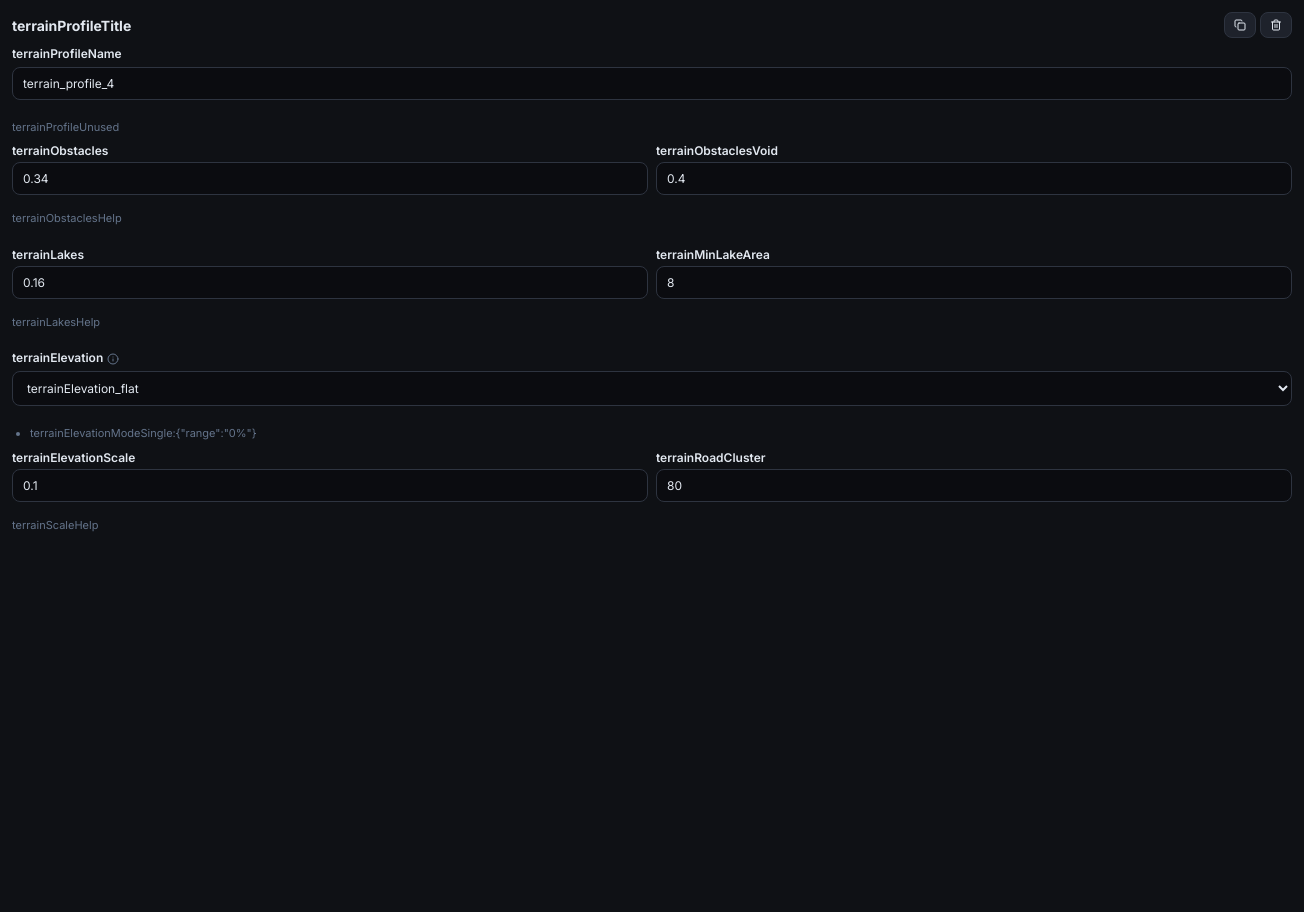
it: terrain elevation control › keeps the custom editor open when typed values land back on a preset
Select "terrainElevation_custom" in the dropdown labelled "terrainElevation" at (652, 389), box [12,371,1292,406]
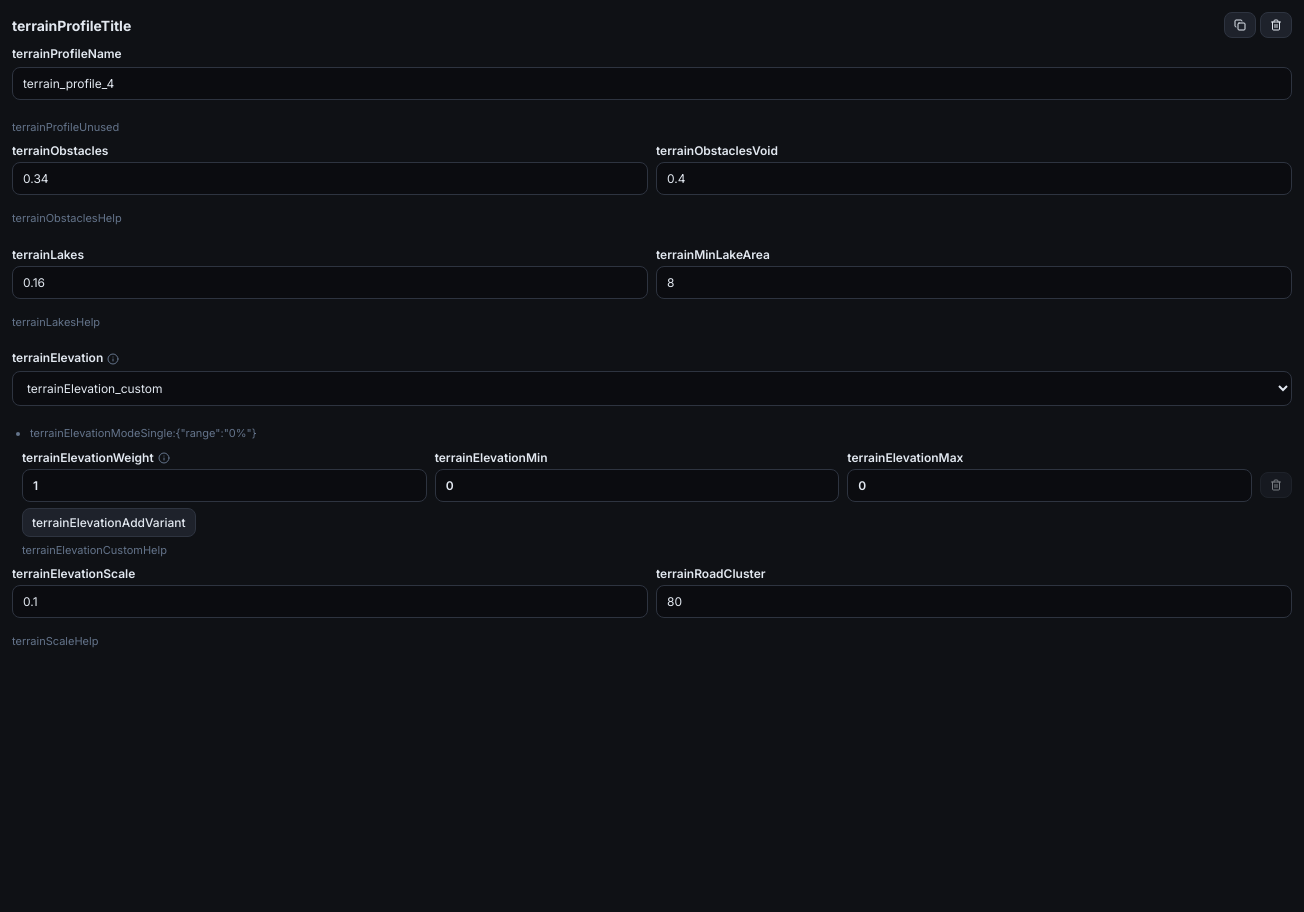
Result: the button "terrainElevationAddVariant" is shown at [22,508,196,537]
